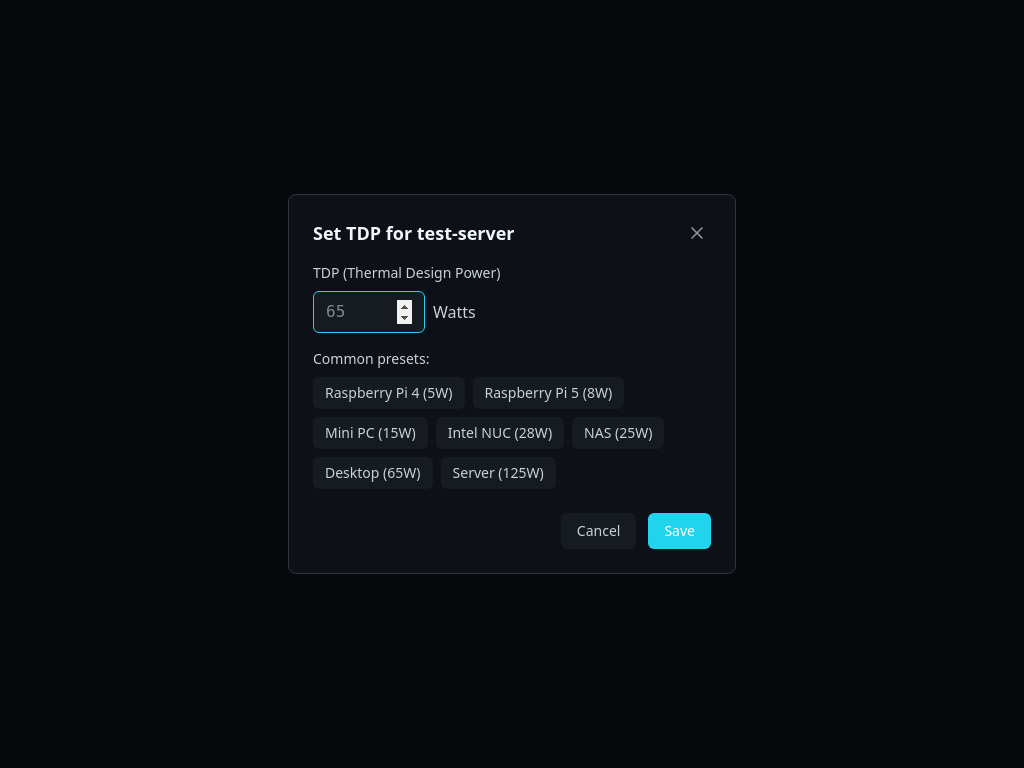
Test: TdpEditModal › Input handling › sets value from preset button
Click the button with test id "tdp-modal-preset-65".
click(373, 473)  # box [313,457,432,489]
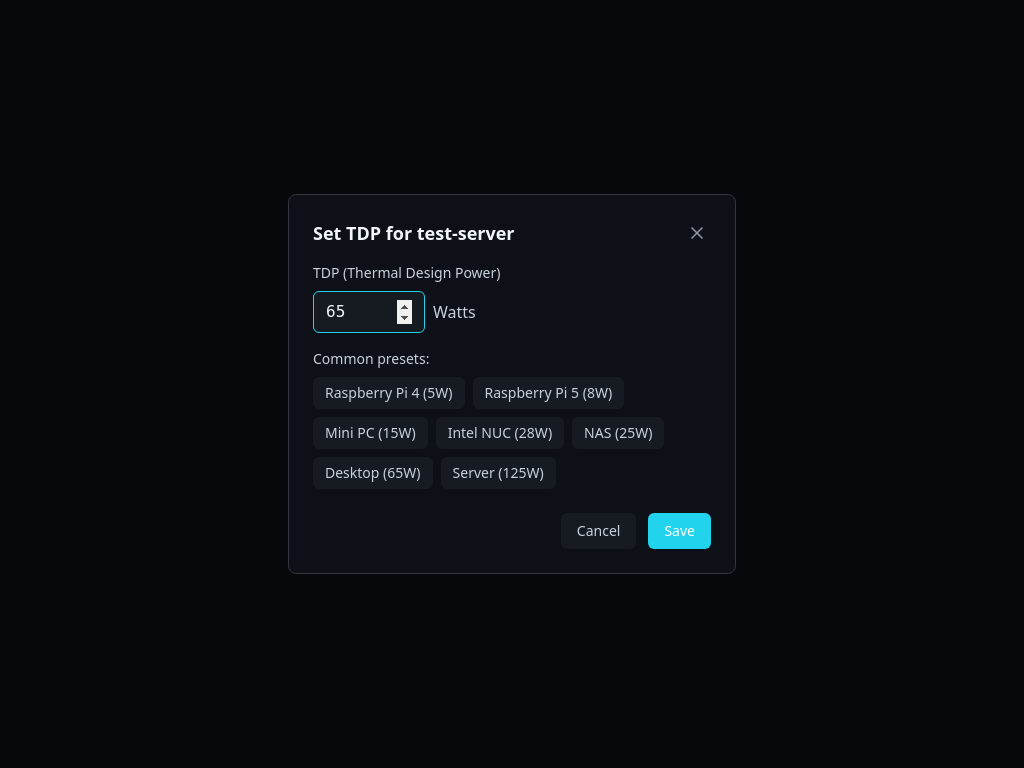
Check: the number field with test id "tdp-modal-input" holds "65", box [313,291,425,333]
